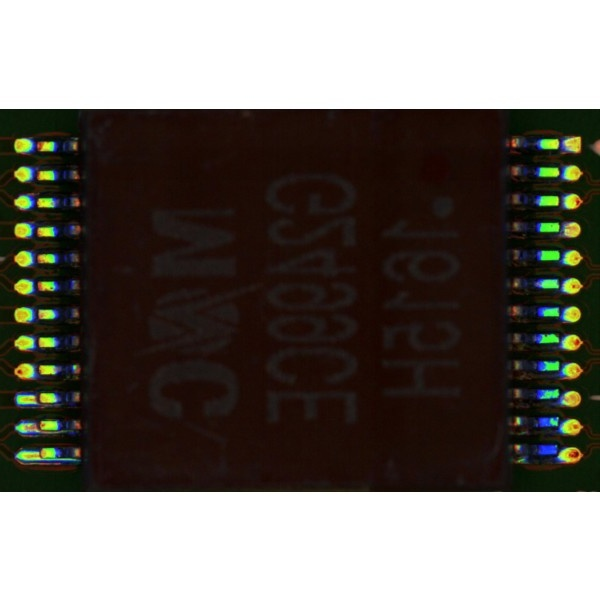Bad_podu: (25, 396, 48, 402), (29, 452, 49, 458)
Bad_qiaojiao: (39, 458, 81, 462), (27, 423, 48, 430), (40, 431, 70, 435)
